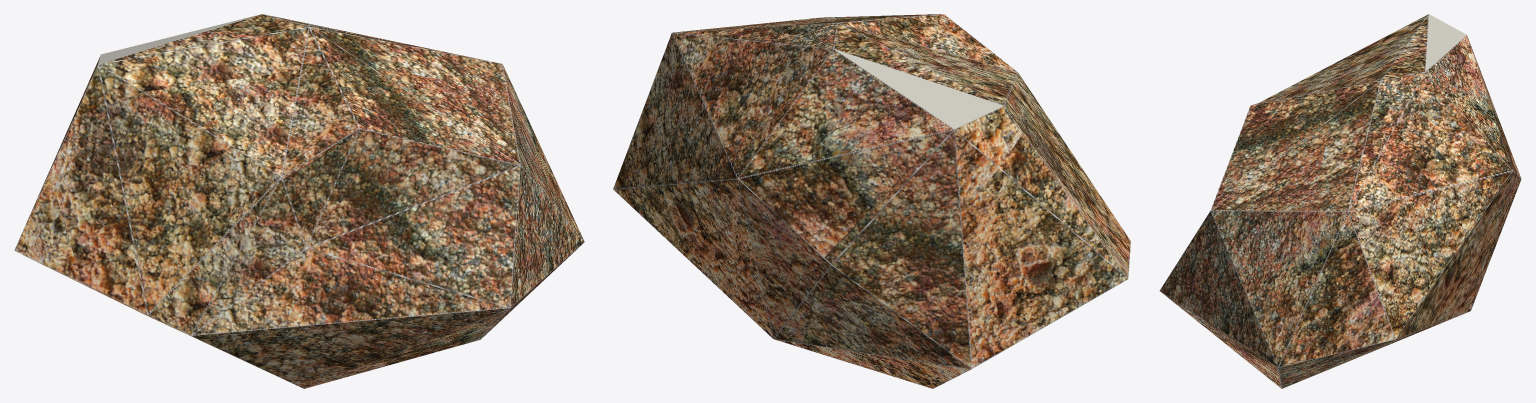
File: Rock_1.fbx
3 renders of one model, left to right at view 1: azimuth 30°, elevation 25°; view 2: azimuth 150°, elevation 25°; view 3: azimuth 270°, elevation 25°, orthographic. The views are drawn at different scales.
Parts seen in each view (by area): view 1: Rock_1; view 2: Rock_1; view 3: Rock_1.
Part boxes in pixels (x1,y1,x2,y2): Rock_1: [14, 14, 584, 388]; Rock_1: [613, 14, 1130, 388]; Rock_1: [1159, 14, 1521, 388].
Bounding box in the file's own units: 19.15 × 11.52 × 13.8.
1 material, 1 textured.
